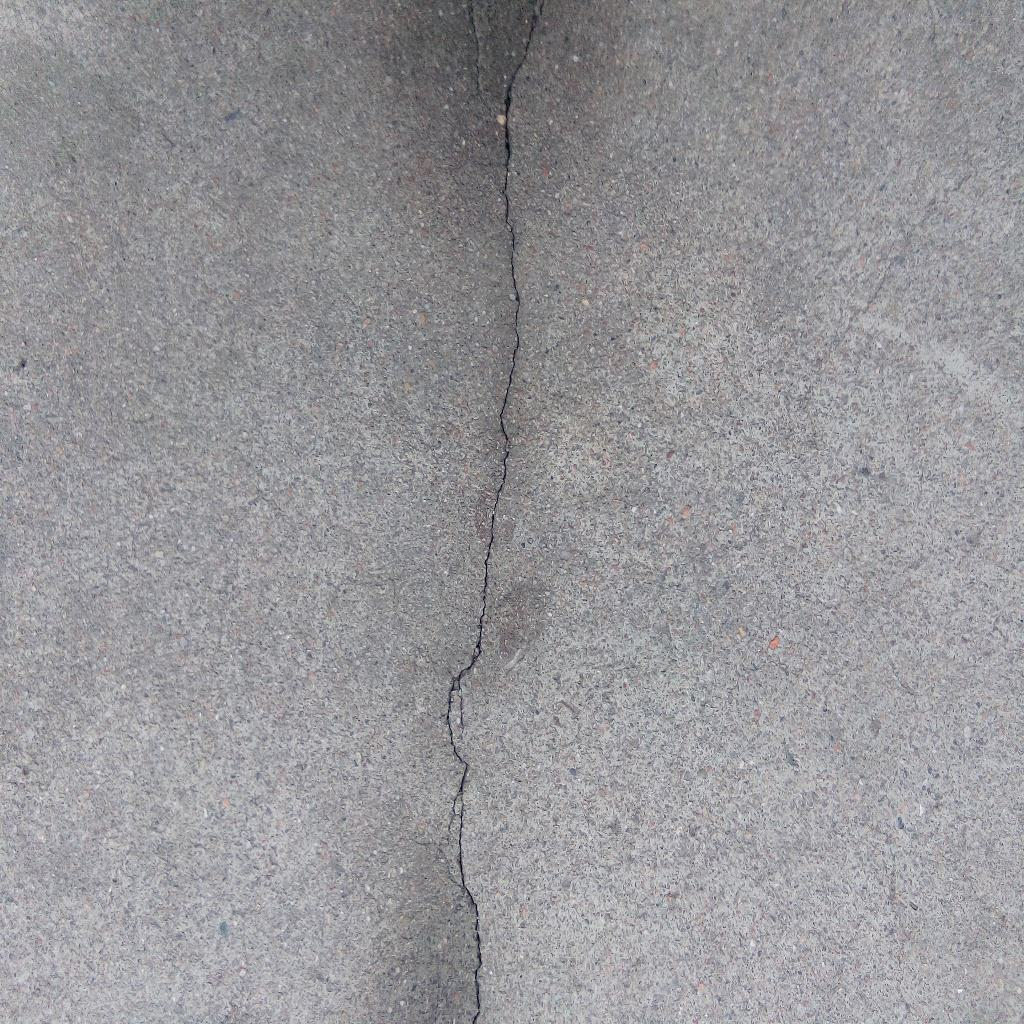Crack: (437, 1, 542, 1024)
